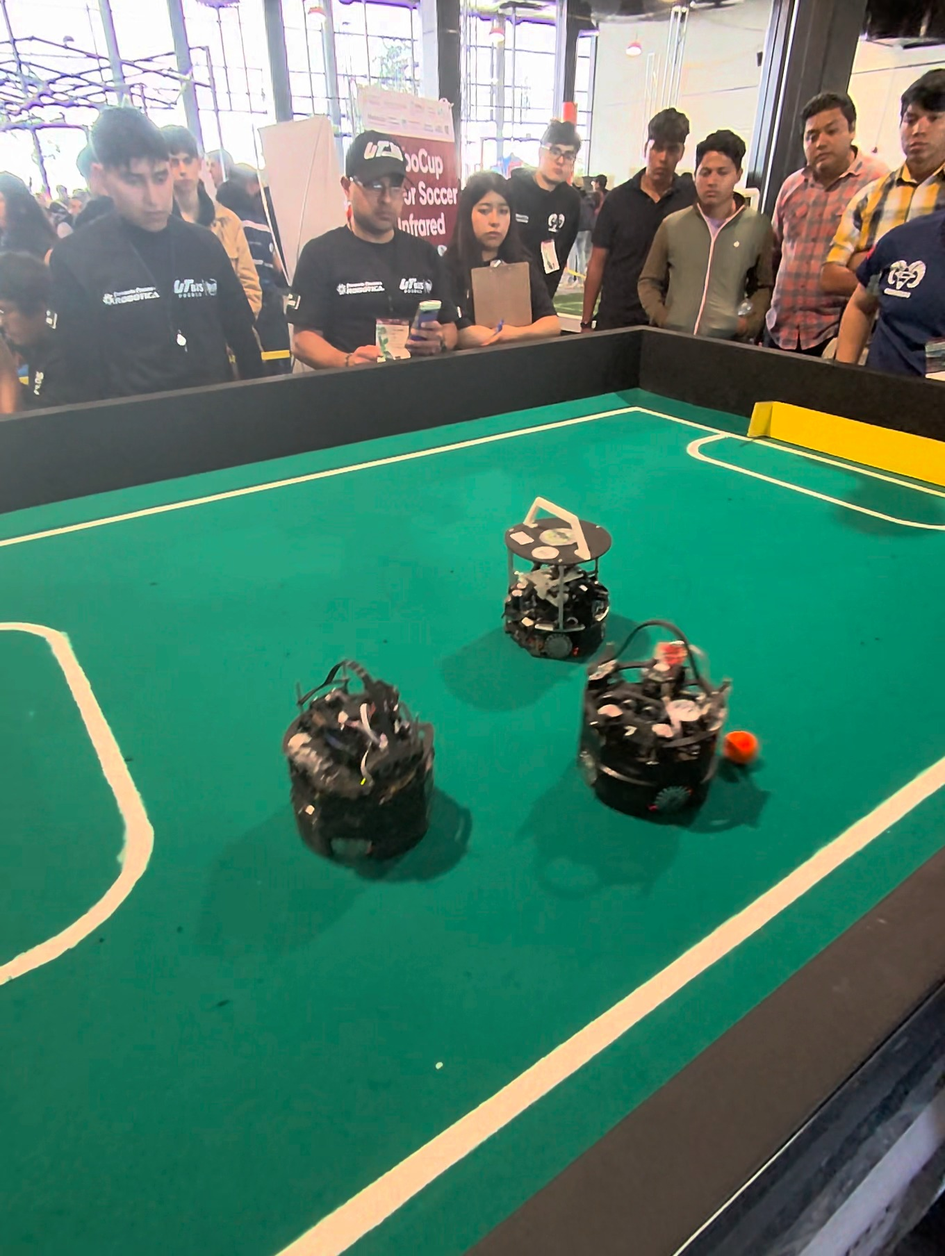Robot: (274, 645, 439, 886), (573, 615, 740, 839), (497, 485, 613, 667)
pelota: (726, 733, 762, 770)
